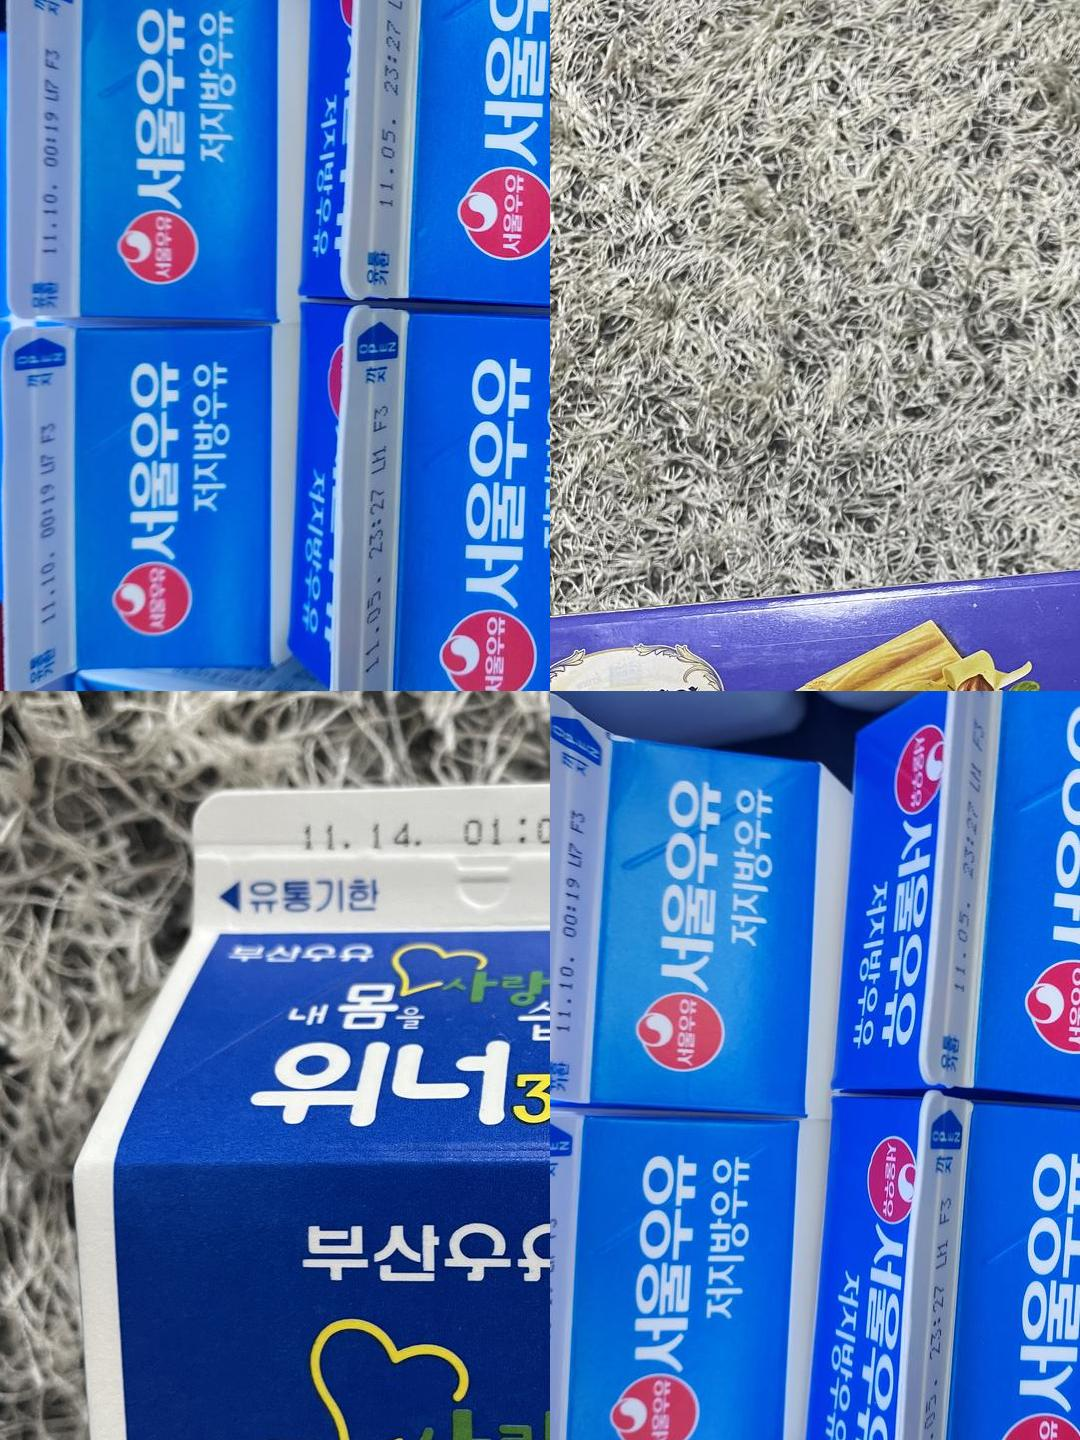milk: (195, 793, 550, 946), (926, 691, 1006, 1100), (5, 332, 79, 691), (9, 0, 82, 319), (340, 312, 394, 691), (911, 1106, 971, 1440), (550, 693, 594, 1100), (364, 0, 407, 302), (550, 1121, 583, 1440)
